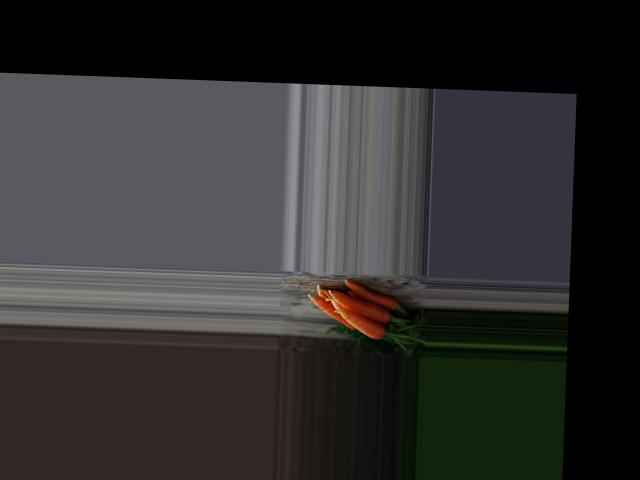carrot: (337, 278, 400, 312)
